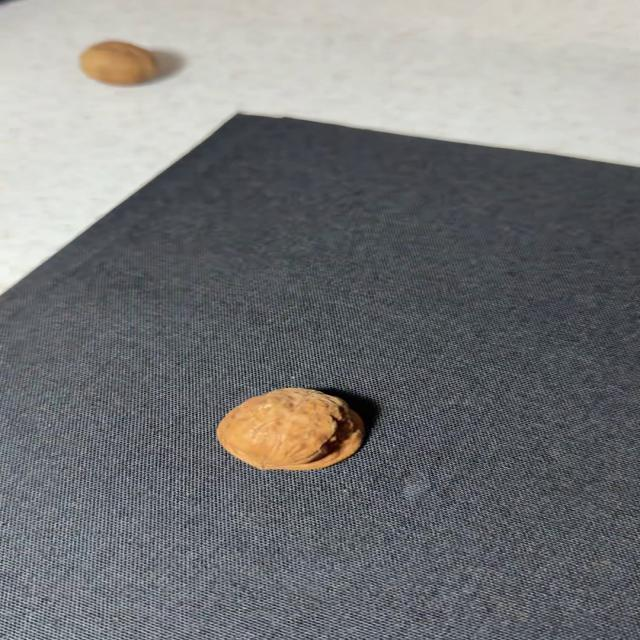nuts-bad0.5: (216, 388, 364, 471)
